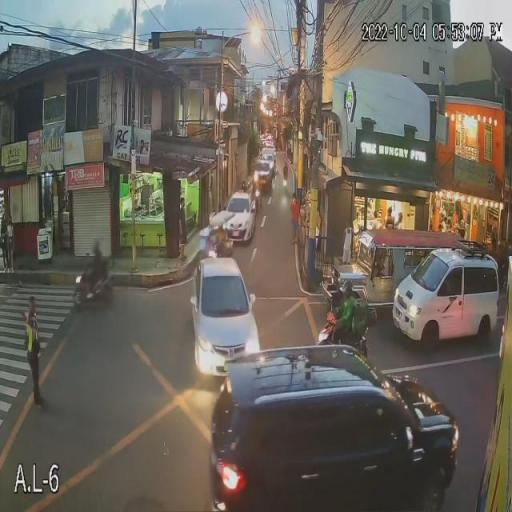helmet: (340, 280, 354, 294)
motorcycle: (314, 307, 371, 360), (73, 268, 116, 309)
rider: (331, 280, 367, 345), (84, 243, 110, 292), (209, 220, 234, 258)
